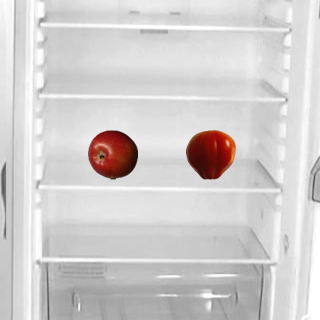Apple Braeburn: (87, 129, 137, 179)
Tomato 1: (185, 129, 235, 179)
